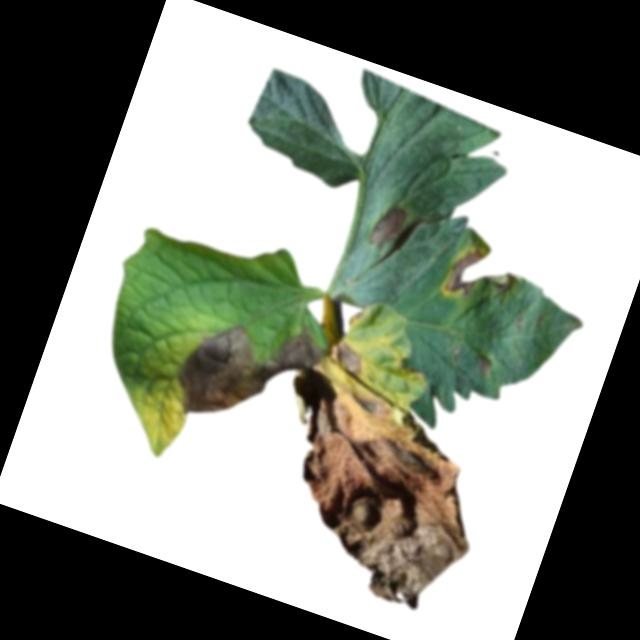Early_blight: (264, 378, 505, 621), (164, 296, 329, 450), (438, 240, 523, 317), (365, 200, 407, 251), (327, 338, 370, 376), (471, 349, 496, 374)
